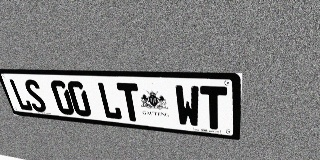0: (66, 81, 92, 117), (49, 80, 75, 115)
L: (96, 82, 123, 120), (8, 79, 34, 111)
S: (22, 79, 48, 113)
T: (200, 86, 227, 130), (116, 83, 143, 122)
W: (174, 85, 201, 128)
